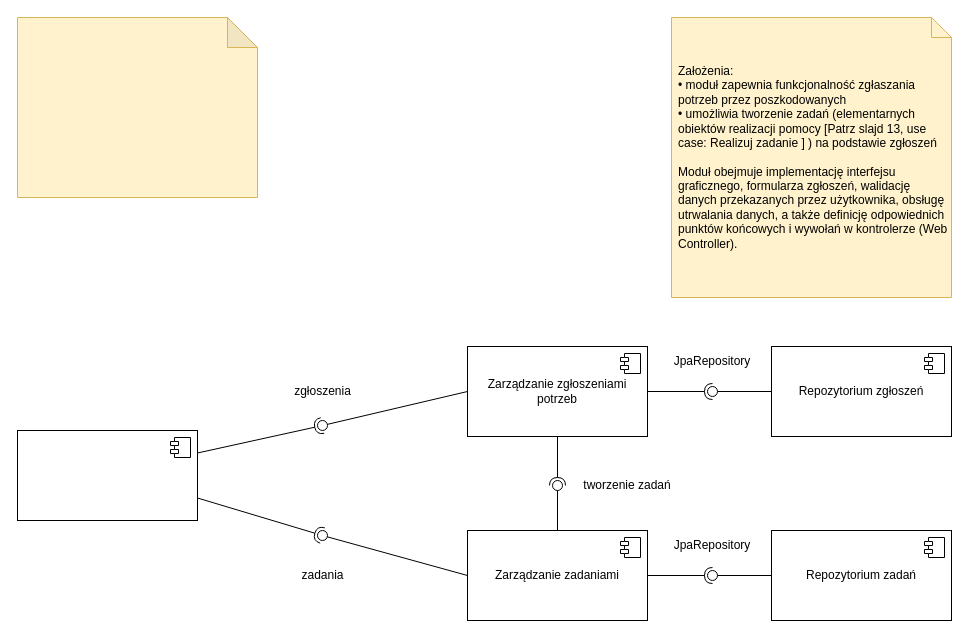
This 969x638 diagram has some shape labels left out. Each missing label, with the centre of its shape:
Projektanci: • Magdalena Ożarek • Wojeciech Błyskal: the point at 137,107
Web Controller: the point at 107,475
